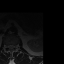CCS_normal: (10, 42, 12, 51)
LFS_normal: (14, 43, 16, 49)
LLS_normal: (12, 43, 14, 50)
RFS_normal: (6, 43, 8, 49)
RLS_normal: (8, 42, 10, 50)
